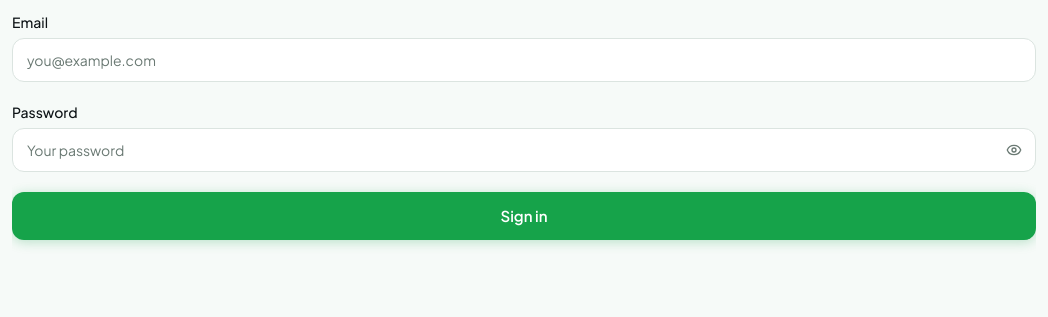
it: LoginForm › blocks empty submission with inline validation
This screenshot has width=1048, height=317.
Click the button "Sign in": (524, 216) [12,192,1036,240]
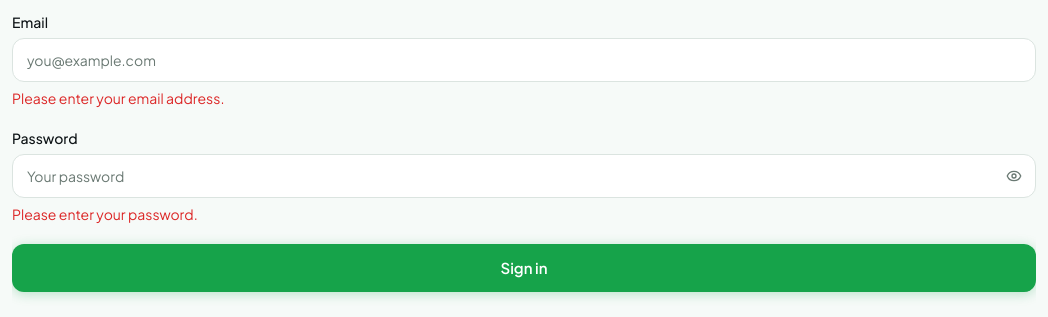
Now the text "Please enter your email address." is shown, box [12,89,224,107]
Now the text "Please enter your password." is shown, box [12,205,198,223]
